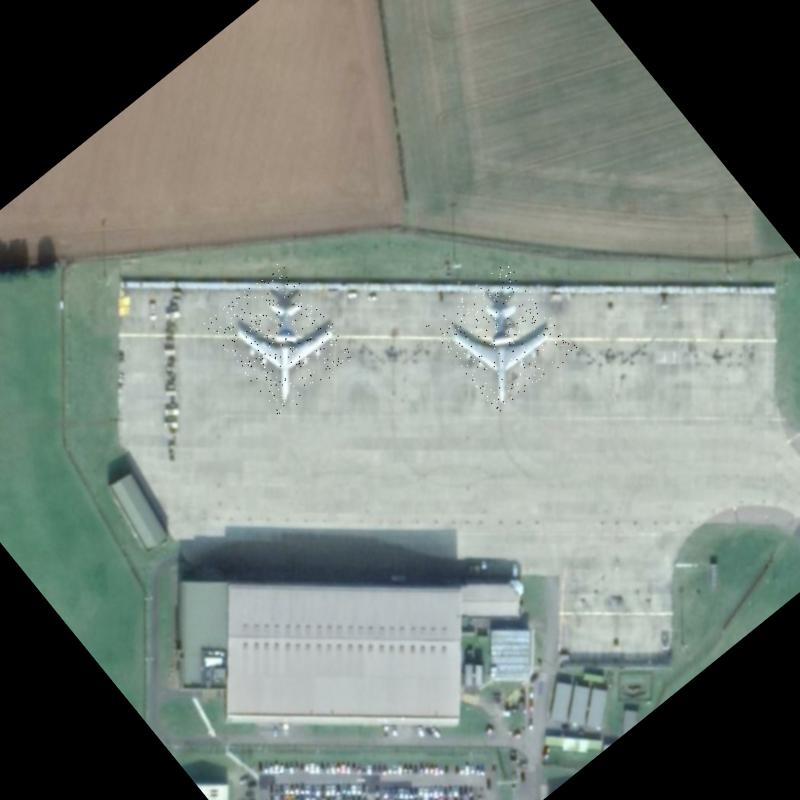A7: (204, 260, 358, 418), (426, 260, 580, 416)
